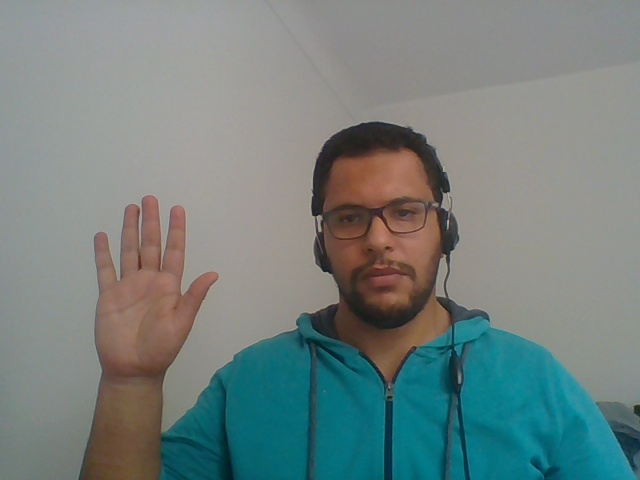hello: (65, 171, 237, 429)
